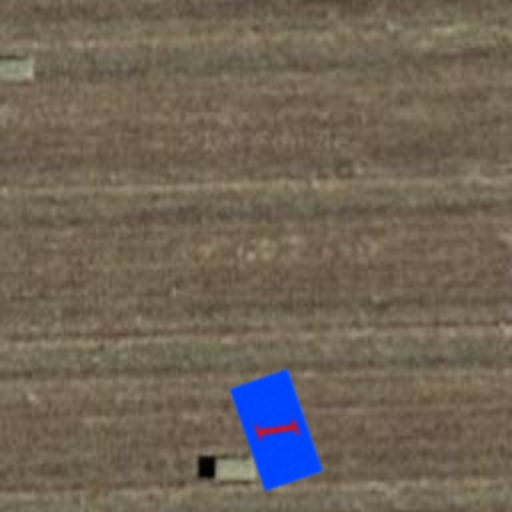rectangle: (206, 360, 346, 500)
